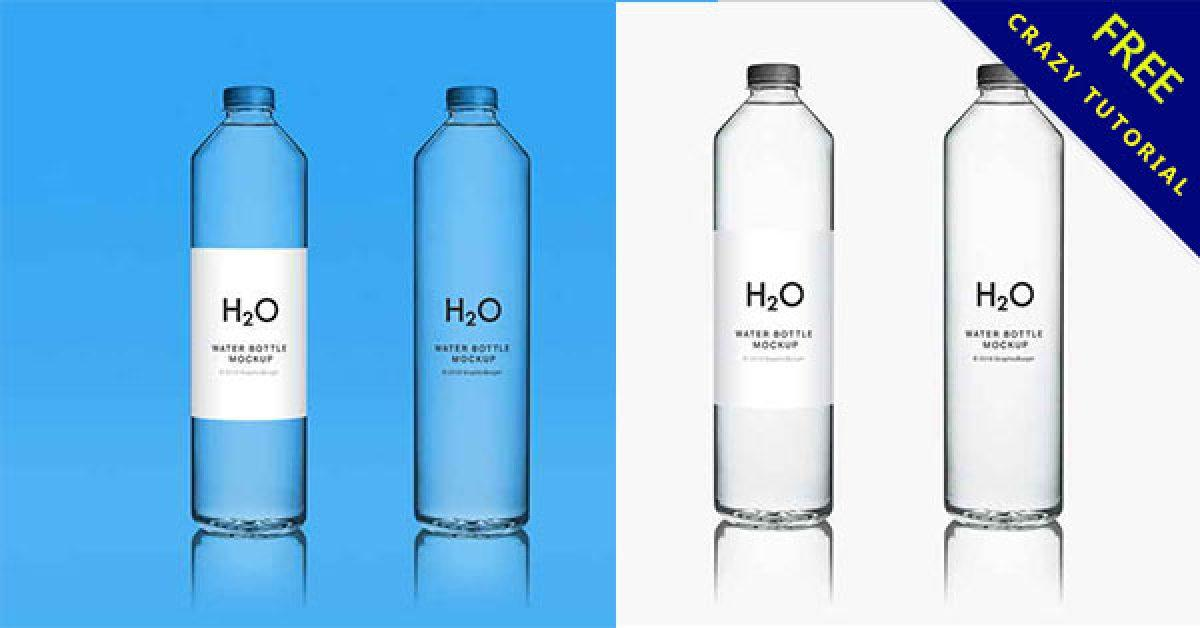bottle: (173, 76, 329, 540), (702, 55, 835, 538), (937, 56, 1070, 533), (404, 77, 536, 541)
